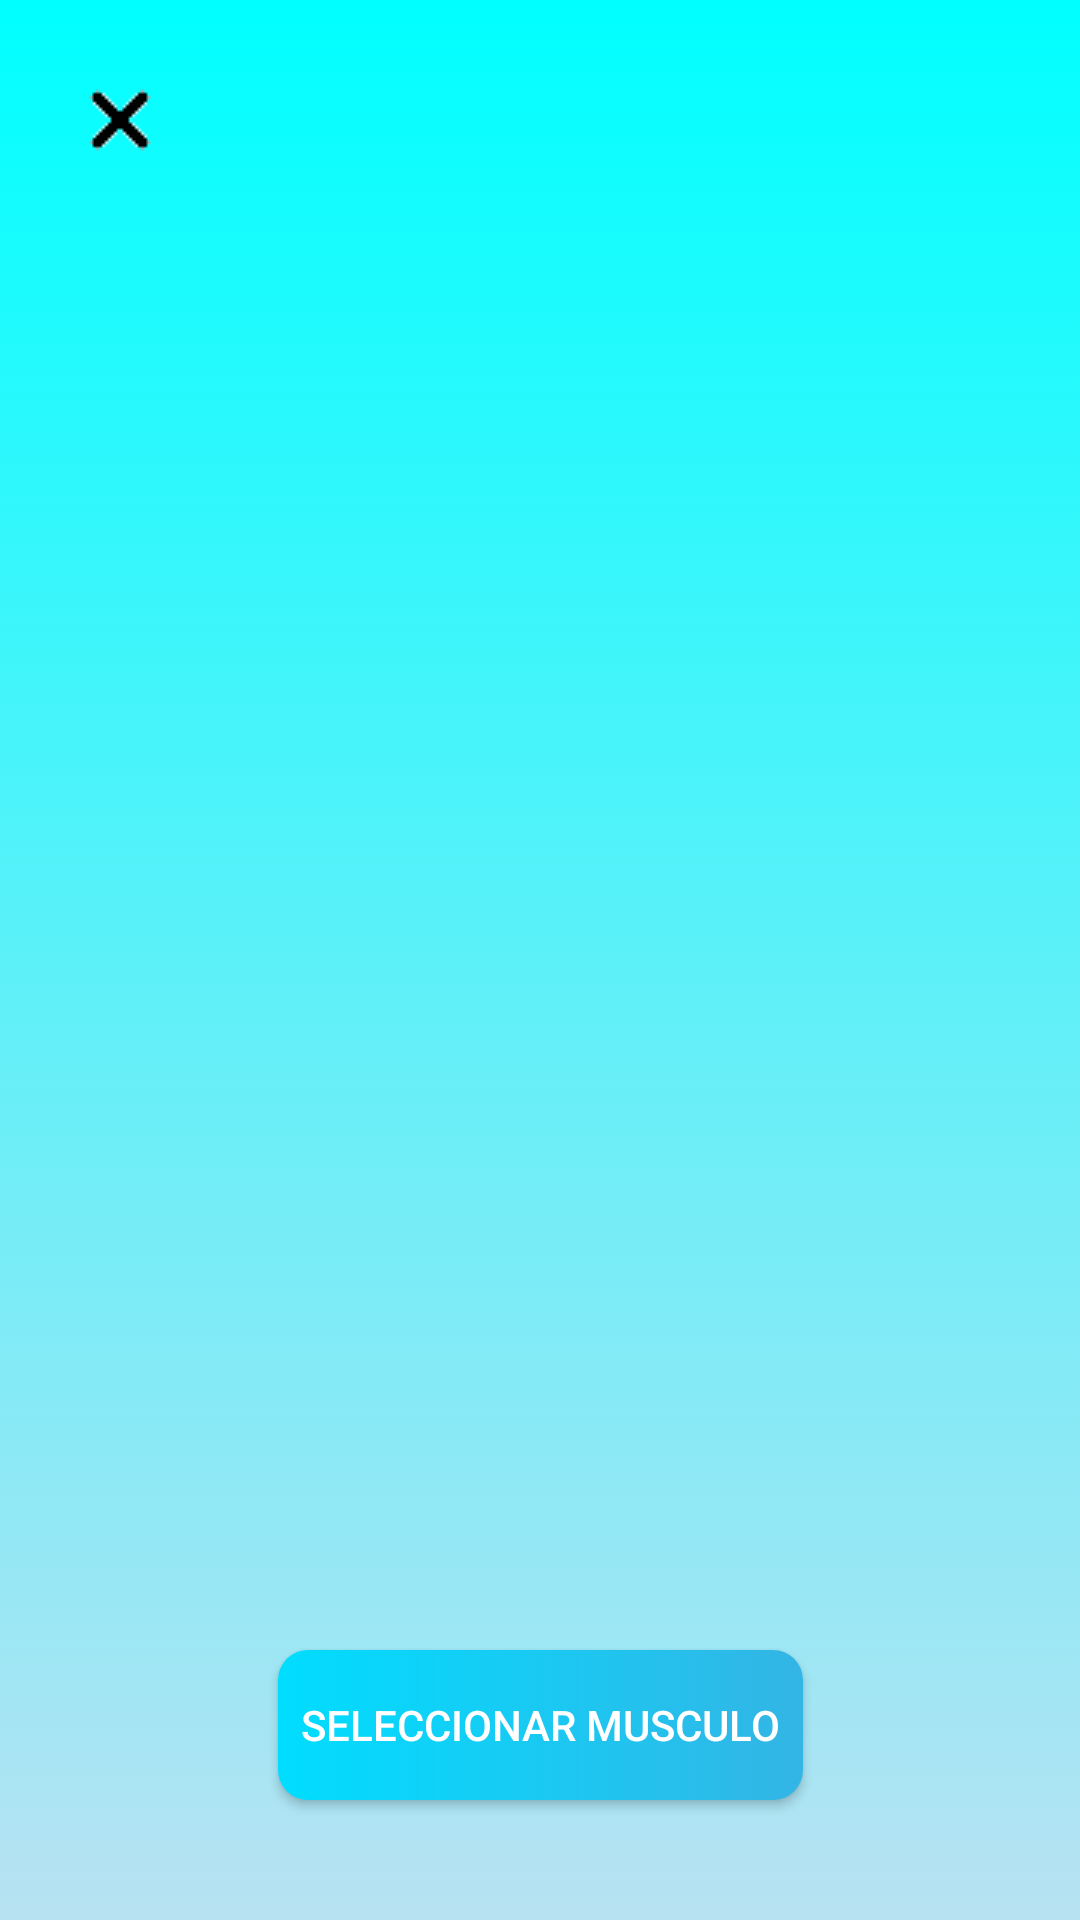

Where to tap for icons on this 1080 x 1920 app screen, as [x,y]:
Return Button: [120,120]
